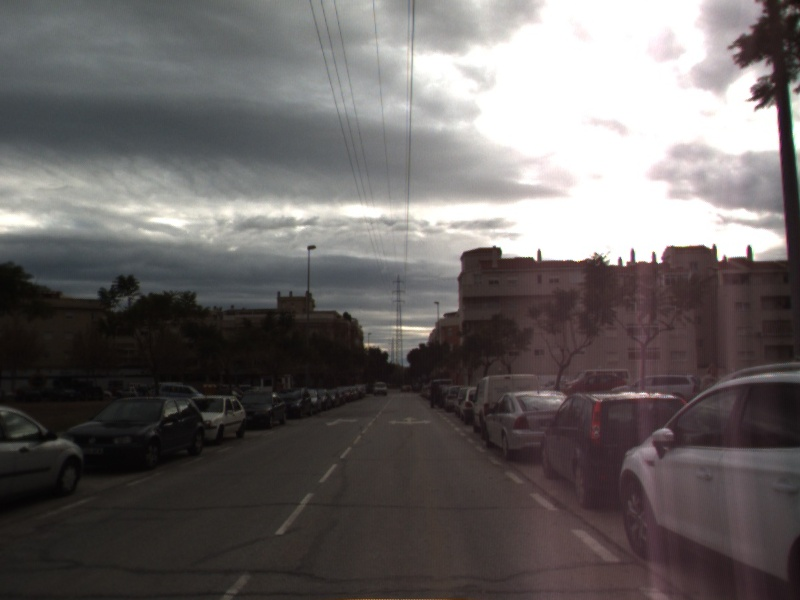STRAIGHT_LEFT_RIGHT: (385, 415, 434, 427)
